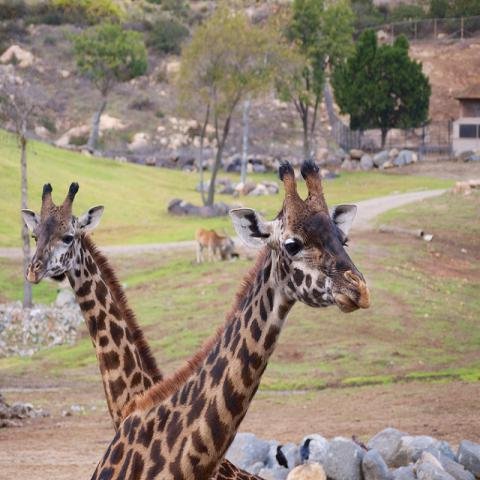truck: (453, 116, 479, 163)
